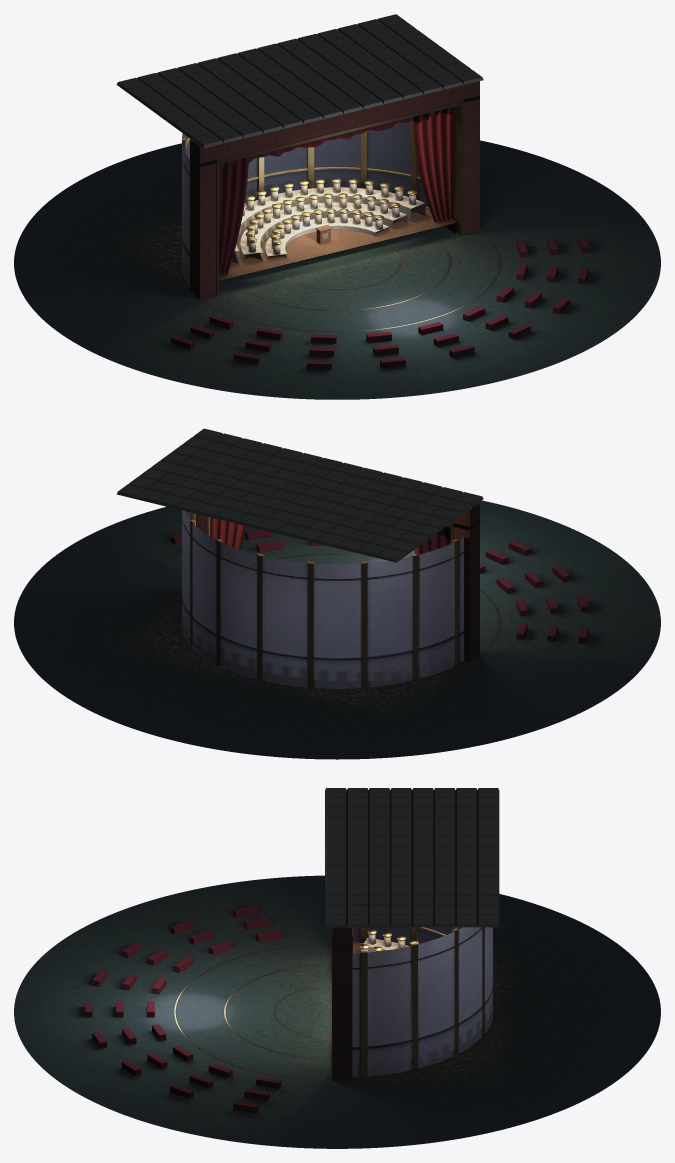
Rendered from presidents_hall.glb.
3 views of the same model, one above another, from view 1: azimuth 30°, elevation 25°; view 2: azimuth 150°, elevation 25°; view 3: azimuth 270°, elevation 25° (orthographic).
Visible parts, largest first — view 1: presidents_hall_floor, presidents_hall_dome, presidents_hall_pros, presidents_hall_walls, presidents_hall_drapes, presidents_hall_seats, presidents_hall_tiers, presidents_hall_pedestals, presidents_hall_trim, presidents_hall_stage, presidents_hall_pilasters; view 2: presidents_hall_floor, presidents_hall_walls, presidents_hall_dome, presidents_hall_pilasters, presidents_hall_pros, presidents_hall_seats, presidents_hall_drapes; view 3: presidents_hall_floor, presidents_hall_dome, presidents_hall_walls, presidents_hall_seats, presidents_hall_pros, presidents_hall_pilasters, presidents_hall_trim, presidents_hall_pedestals.
Part boxes in pixels (left/top/right/bottom): presidents_hall_floor: left=14, top=140, right=660, bottom=399; presidents_hall_dome: left=116, top=14, right=483, bottom=148; presidents_hall_pros: left=190, top=81, right=479, bottom=298; presidents_hall_walls: left=182, top=121, right=428, bottom=283; presidents_hall_drapes: left=219, top=107, right=452, bottom=275; presidents_hall_seats: left=171, top=236, right=589, bottom=369; presidents_hall_tiers: left=234, top=187, right=425, bottom=262; presidents_hall_pedestals: left=242, top=178, right=416, bottom=254; presidents_hall_trim: left=202, top=99, right=500, bottom=331; presidents_hall_stage: left=219, top=208, right=455, bottom=280; presidents_hall_pilasters: left=182, top=121, right=420, bottom=199; presidents_hall_floor: left=14, top=500, right=660, bottom=759; presidents_hall_walls: left=182, top=510, right=463, bottom=688; presidents_hall_dome: left=116, top=428, right=483, bottom=562; presidents_hall_pilasters: left=185, top=511, right=458, bottom=687; presidents_hall_pros: left=196, top=502, right=479, bottom=662; presidents_hall_seats: left=171, top=526, right=589, bottom=643; presidents_hall_drapes: left=211, top=517, right=450, bottom=554; presidents_hall_floor: left=14, top=875, right=660, bottom=1148; presidents_hall_dome: left=325, top=788, right=499, bottom=927; presidents_hall_walls: left=352, top=927, right=492, bottom=1077; presidents_hall_seats: left=85, top=905, right=281, bottom=1113; presidents_hall_pros: left=332, top=927, right=352, bottom=1080; presidents_hall_pilasters: left=360, top=927, right=484, bottom=1076; presidents_hall_trim: left=174, top=927, right=363, bottom=1080; presidents_hall_pedestals: left=359, top=929, right=419, bottom=952.
Bounding box in the file's own units: 52 × 13.85 × 52.
13 materials, 12 textured.
